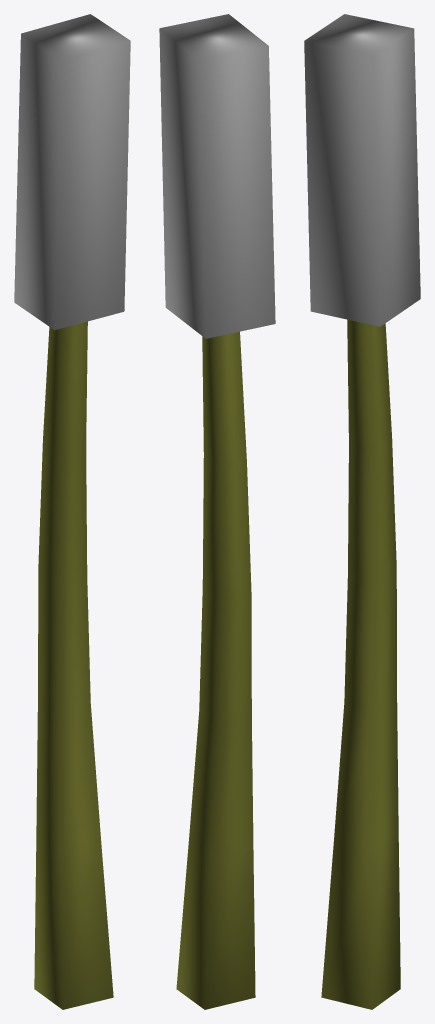
Rendered from YN_Grass8.fbx.
3 views of the same model, side by side, from view 1: azimuth 30°, elevation 25°; view 2: azimuth 210°, elevation 25°; view 3: azimuth 330°, elevation 25° (orthographic).
Parts seen in each view (by area): view 1: Grass8; view 2: Grass8; view 3: Grass8.
Boxes of the visible parts, x1,y1,x2,y2 form: Grass8: [14, 14, 130, 1009]; Grass8: [159, 14, 275, 1009]; Grass8: [304, 14, 420, 1009].
Size of the model in its own units: 0.0681 by 0.8984 by 0.0796.
